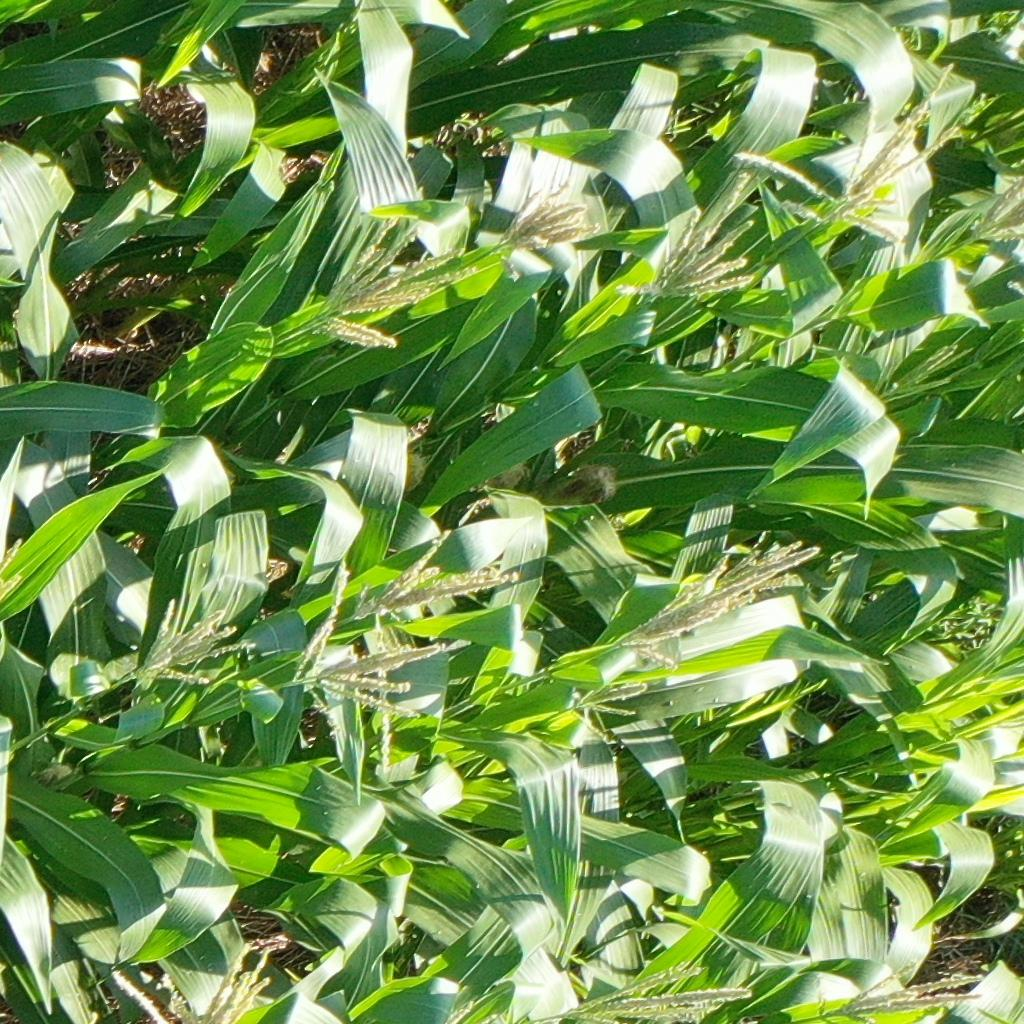Tassel: (732, 56, 987, 242), (282, 560, 438, 779), (620, 526, 822, 668), (300, 204, 484, 357), (615, 172, 757, 306), (346, 524, 522, 625), (103, 939, 277, 1024), (538, 957, 754, 1024), (124, 596, 255, 692), (809, 955, 988, 1024), (490, 178, 602, 259), (569, 675, 648, 746), (967, 168, 1024, 246), (1, 537, 23, 601)
